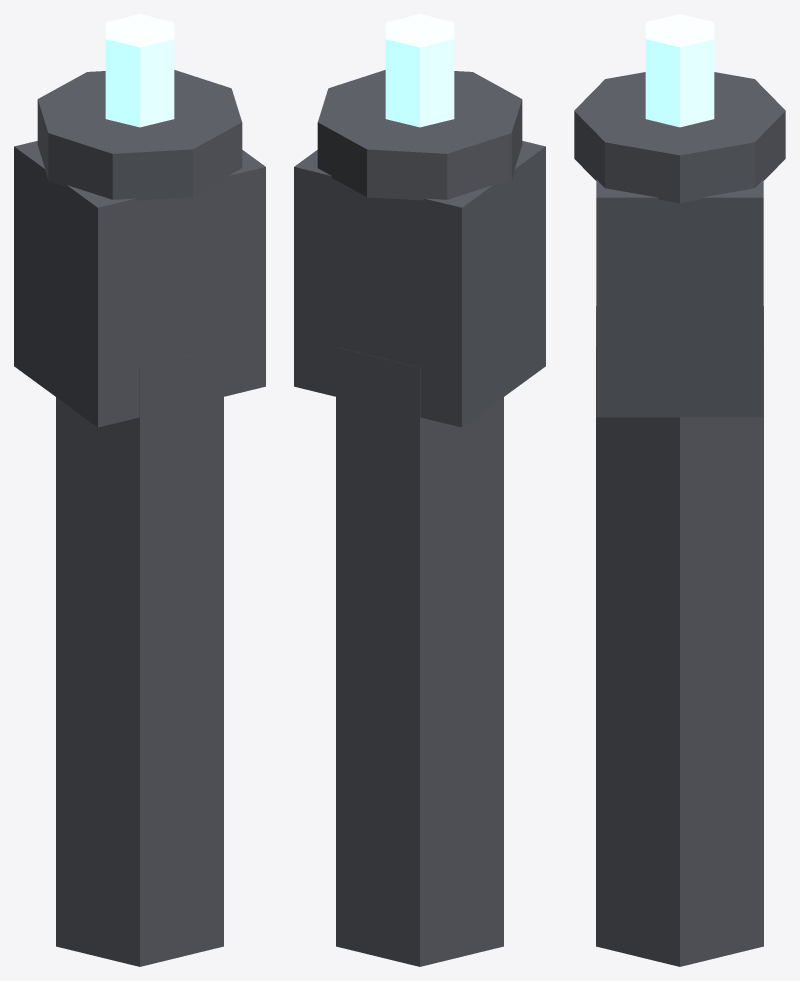
The model's file is arkham_street_policebox.glb.
The picture shows the model from 3 angles, left to right: view 1: azimuth 30°, elevation 25°; view 2: azimuth 150°, elevation 25°; view 3: azimuth 270°, elevation 25°; orthographic projection.
Visible parts, largest first — view 1: Arkham_Street_PoliceBox; view 2: Arkham_Street_PoliceBox; view 3: Arkham_Street_PoliceBox.
Boxes of the visible parts, x1=… form: Arkham_Street_PoliceBox: x1=14, y1=14, x2=265, y2=966; Arkham_Street_PoliceBox: x1=294, y1=14, x2=545, y2=966; Arkham_Street_PoliceBox: x1=574, y1=14, x2=785, y2=966.
Size of the model in its own units: 0.48 by 2.24 by 0.48.
